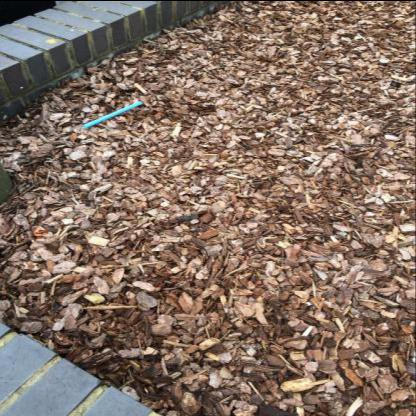Bottle: (390, 78, 402, 86), (379, 58, 389, 64)
Straw: (83, 100, 143, 128)
